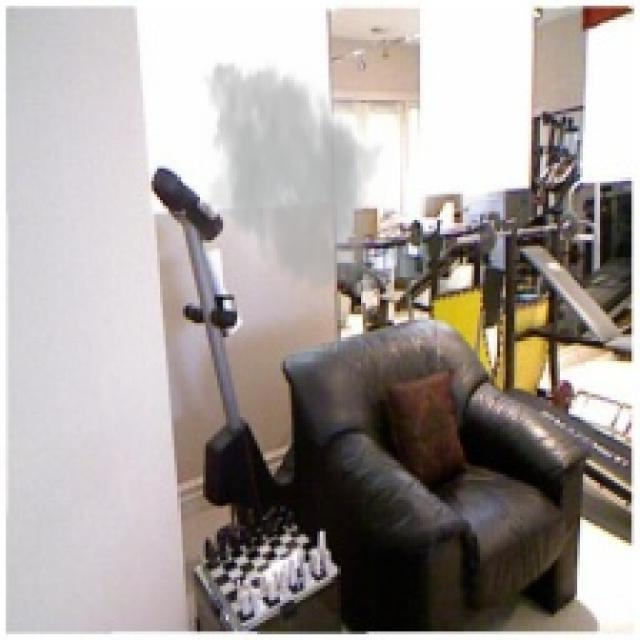smoke: (194, 51, 397, 306)
